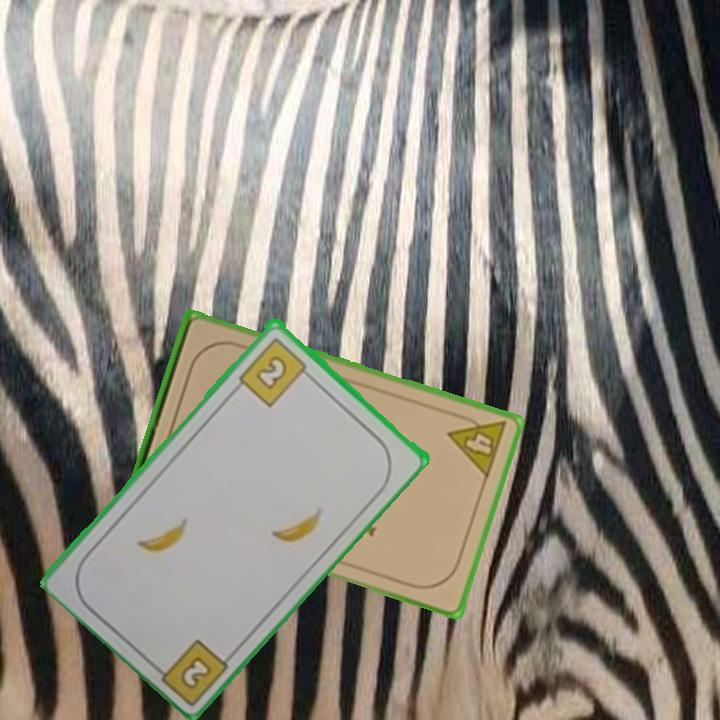2b: (234, 333, 313, 409), (176, 652, 215, 692)
4p: (444, 408, 509, 482)
